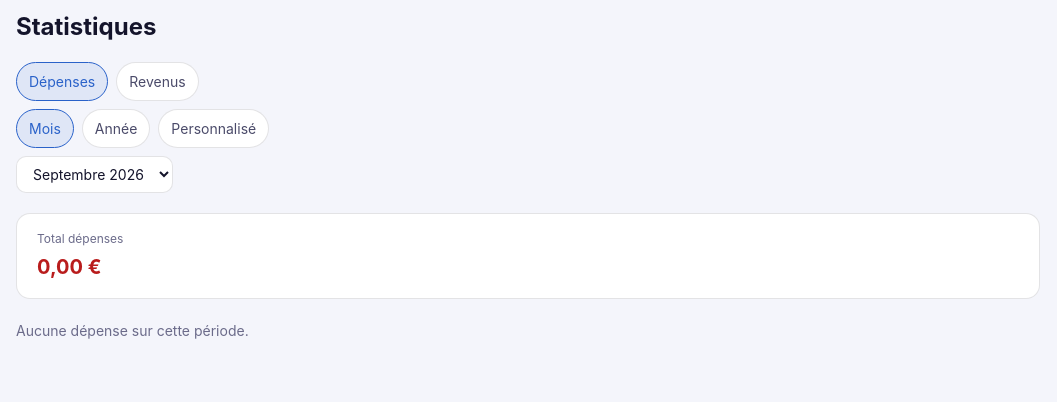
Test case: StatsPage — comparaison avec la période précédente › la vue Année compare à l'année précédente à la même date
Click the button "Année".
click(116, 128)  # box [82,109,150,148]
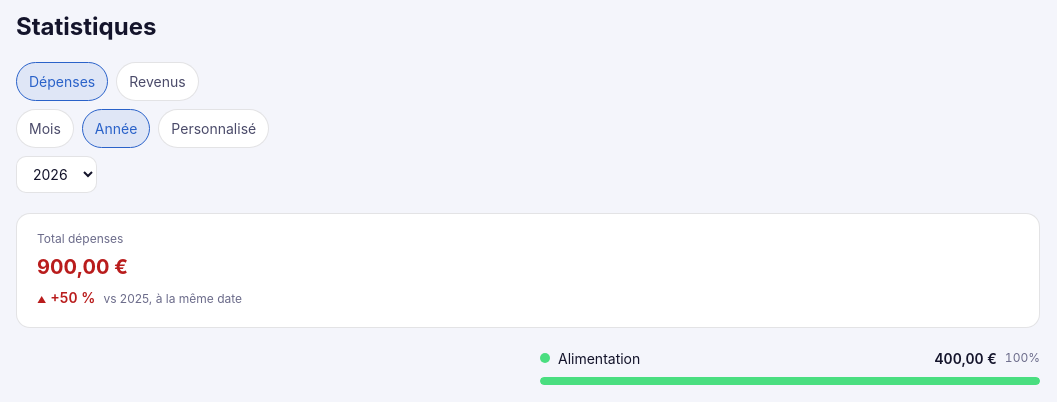
Result: the element with class "trend__visual" shows "+50 %" at [50,289,95,306]
